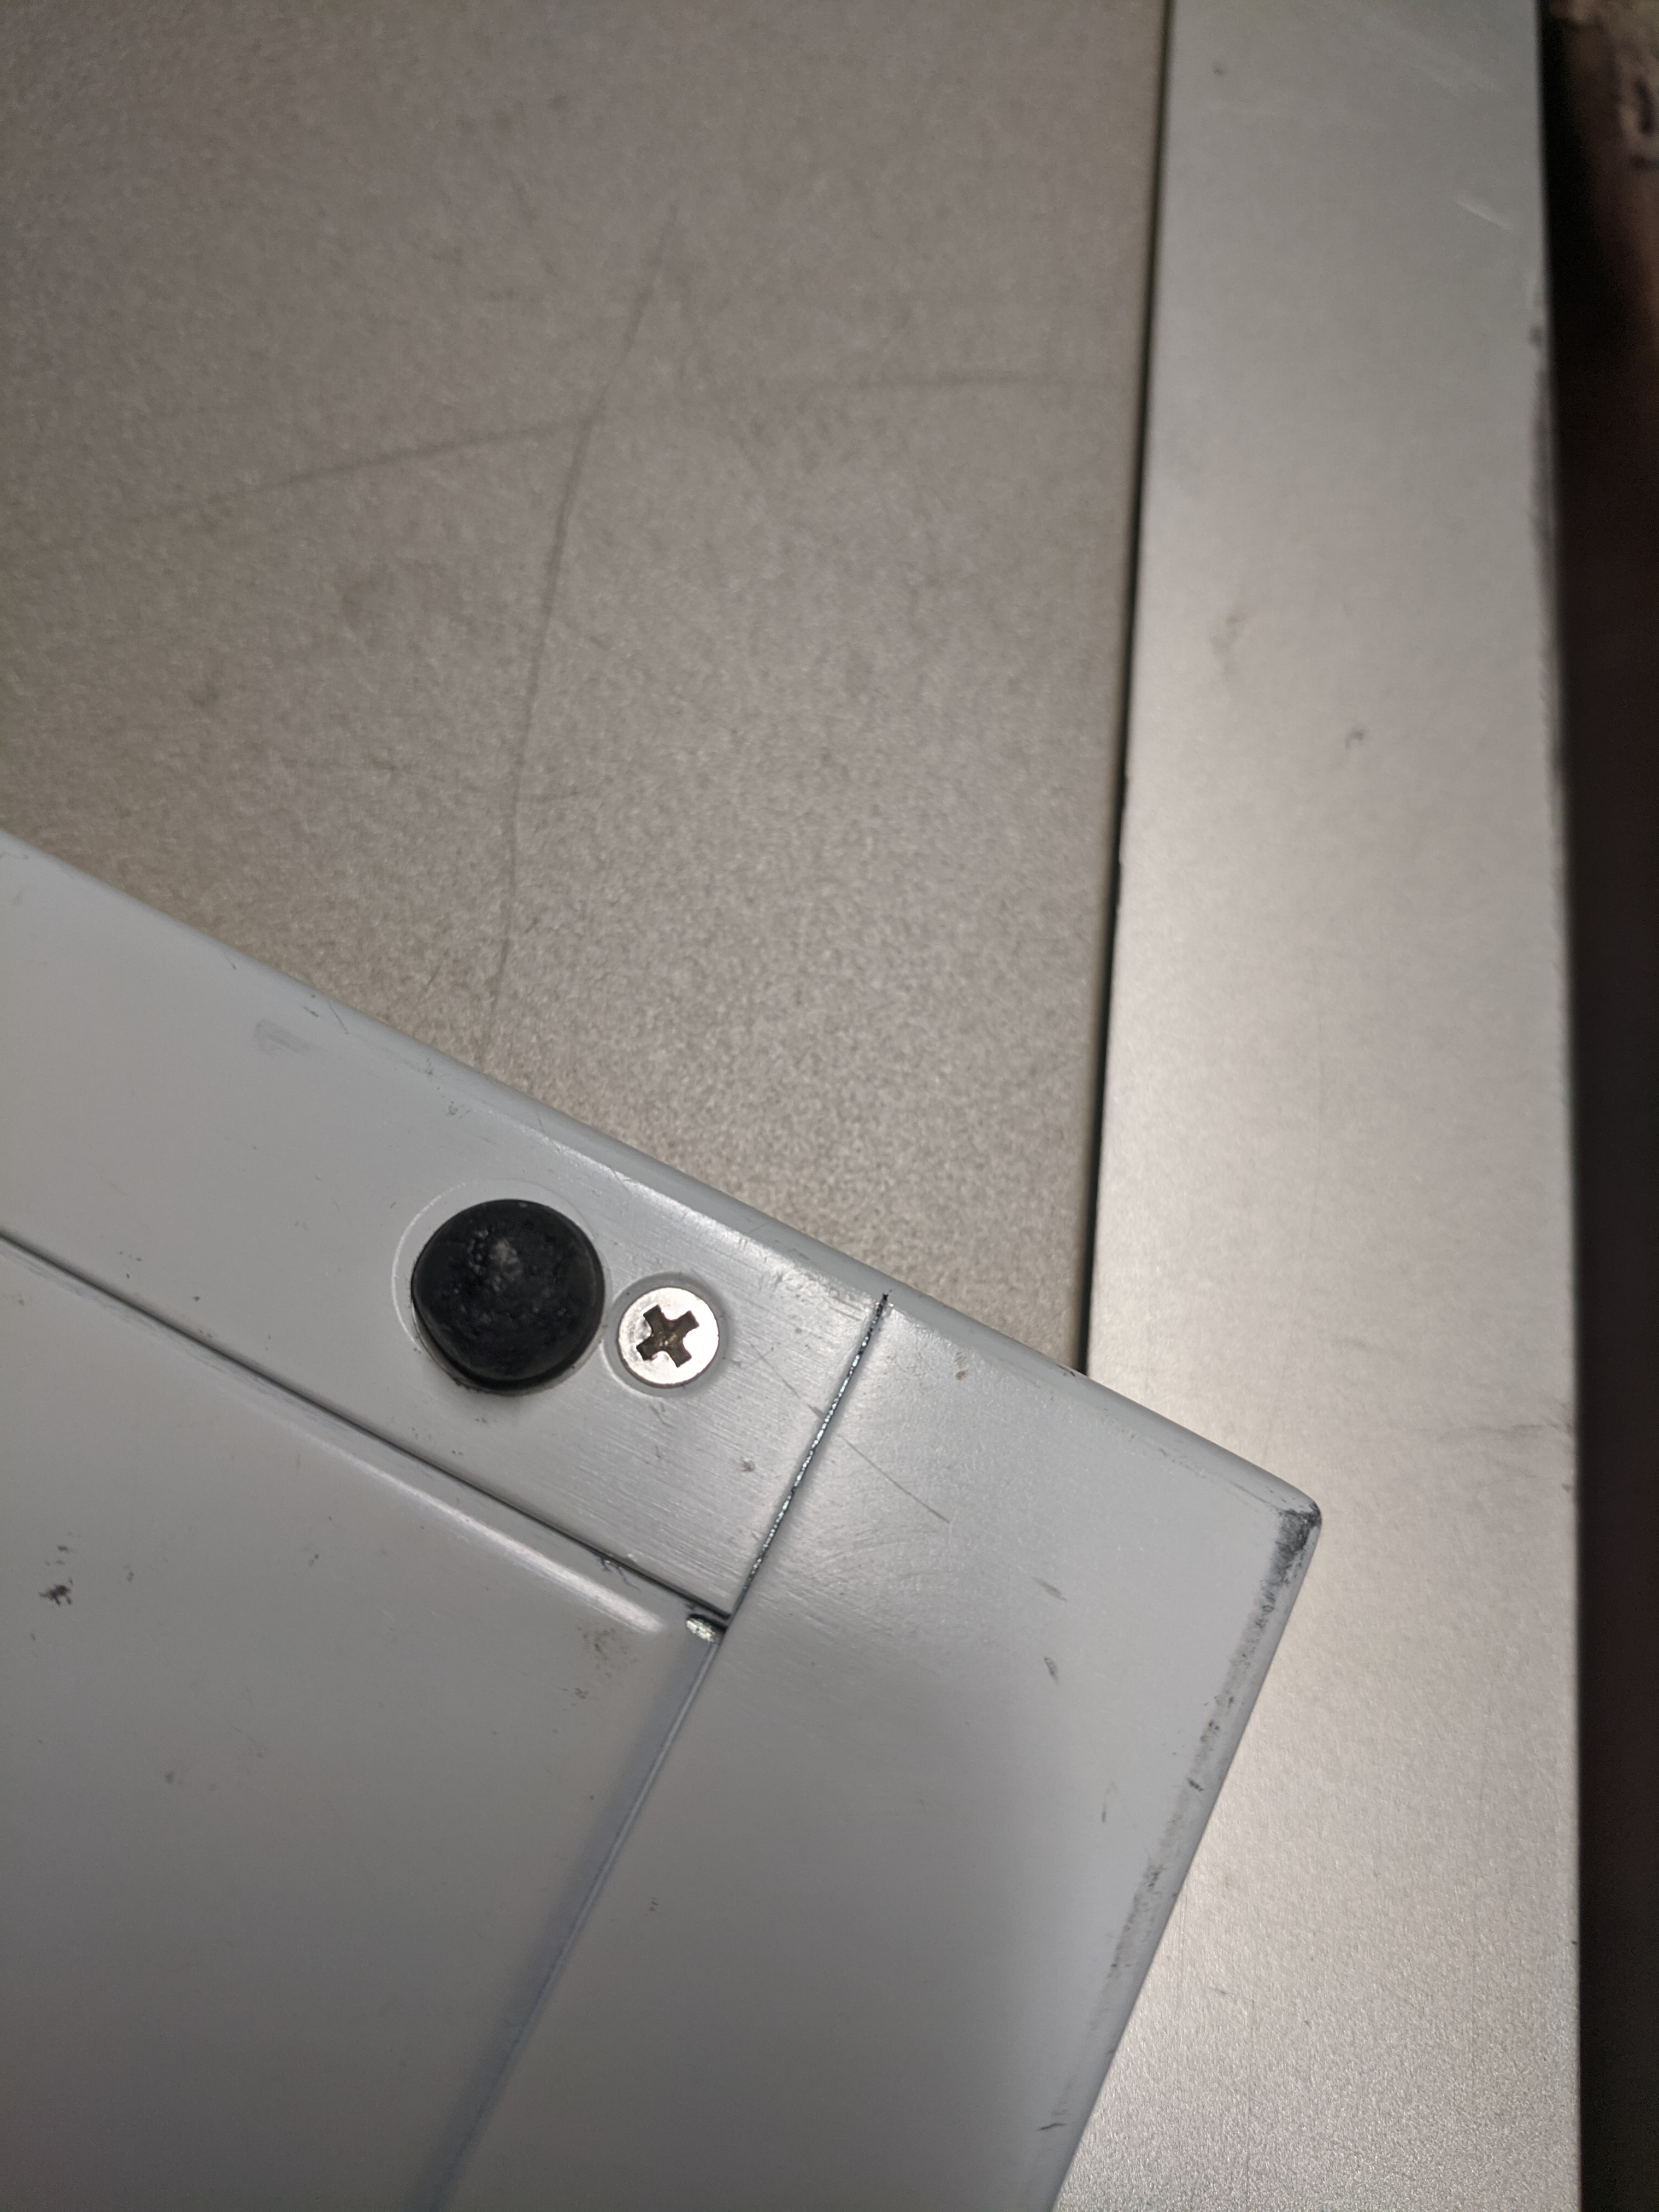cross_recessed_screw: (612, 1244, 730, 1404)
